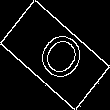O_SW: (24, 22, 86, 88)
